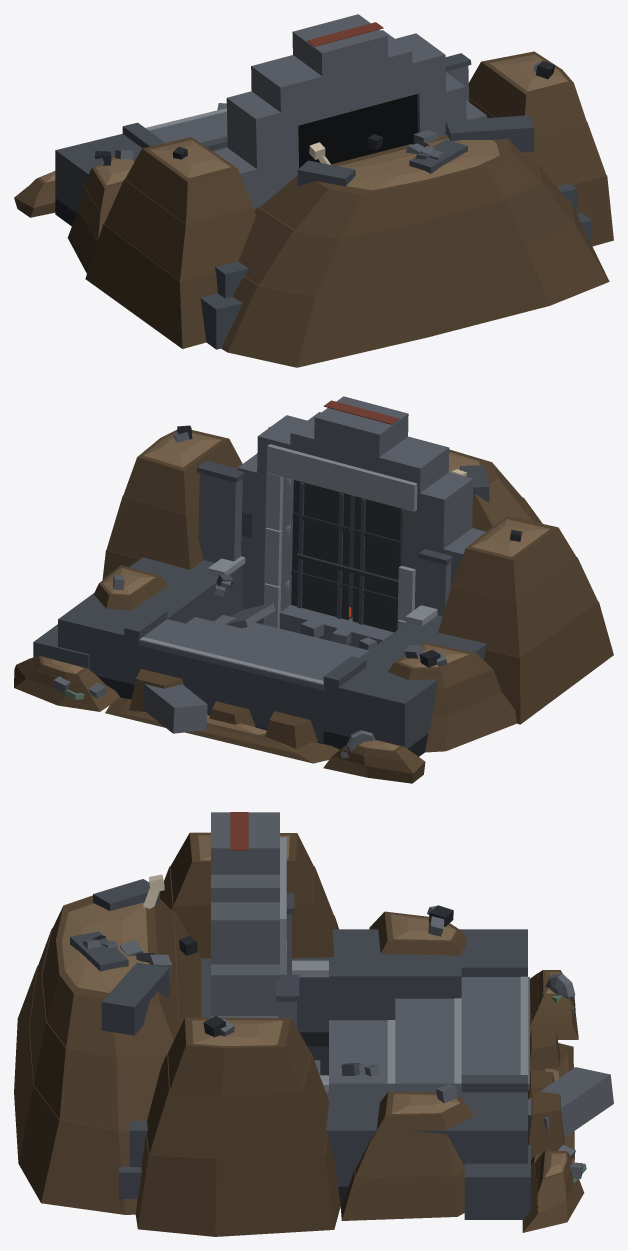
3 views of the same model, one above another, from view 1: azimuth 30°, elevation 25°; view 2: azimuth 150°, elevation 25°; view 3: azimuth 270°, elevation 25° (orthographic). The views are drawn at different scales.
Visible parts, largest first — view 1: DG-主体, DG-team; view 2: DG-主体, DG-team; view 3: DG-主体, DG-team.
Boxes of the visible parts, <box> form: DG-主体: <box>14,14,613,367</box>; DG-team: <box>307,22,383,46</box>; DG-主体: <box>14,396,613,783</box>; DG-team: <box>323,400,399,424</box>; DG-主体: <box>14,812,613,1236</box>; DG-team: <box>230,812,248,850</box>.
Size of the model in its own units: 10.08 by 4.94 by 9.94.
3 materials, 2 textured.
